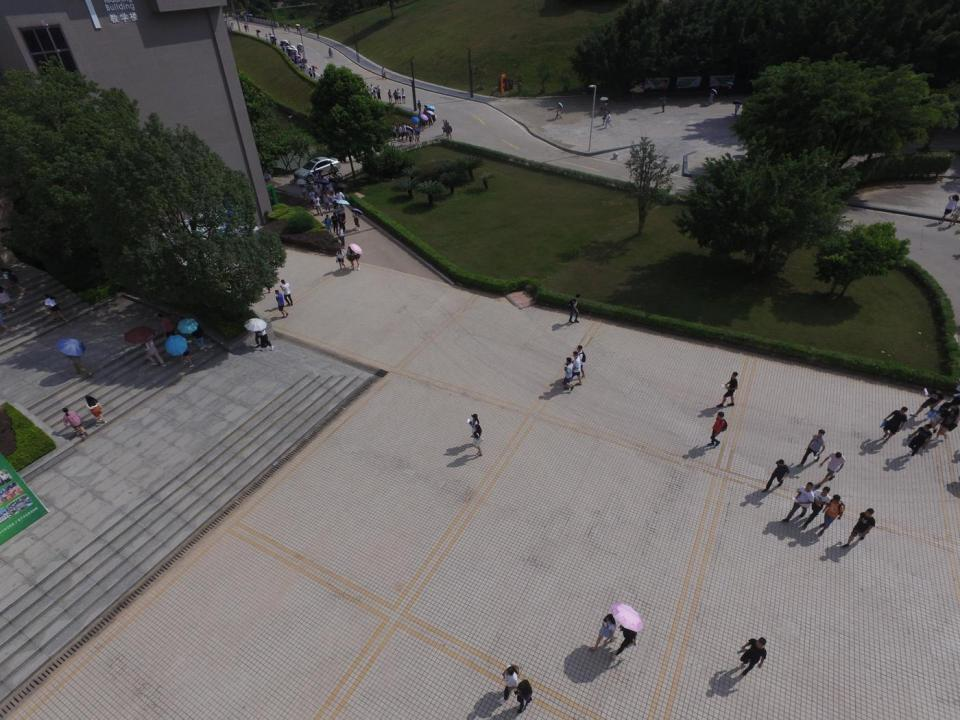car: (293, 156, 341, 183)
